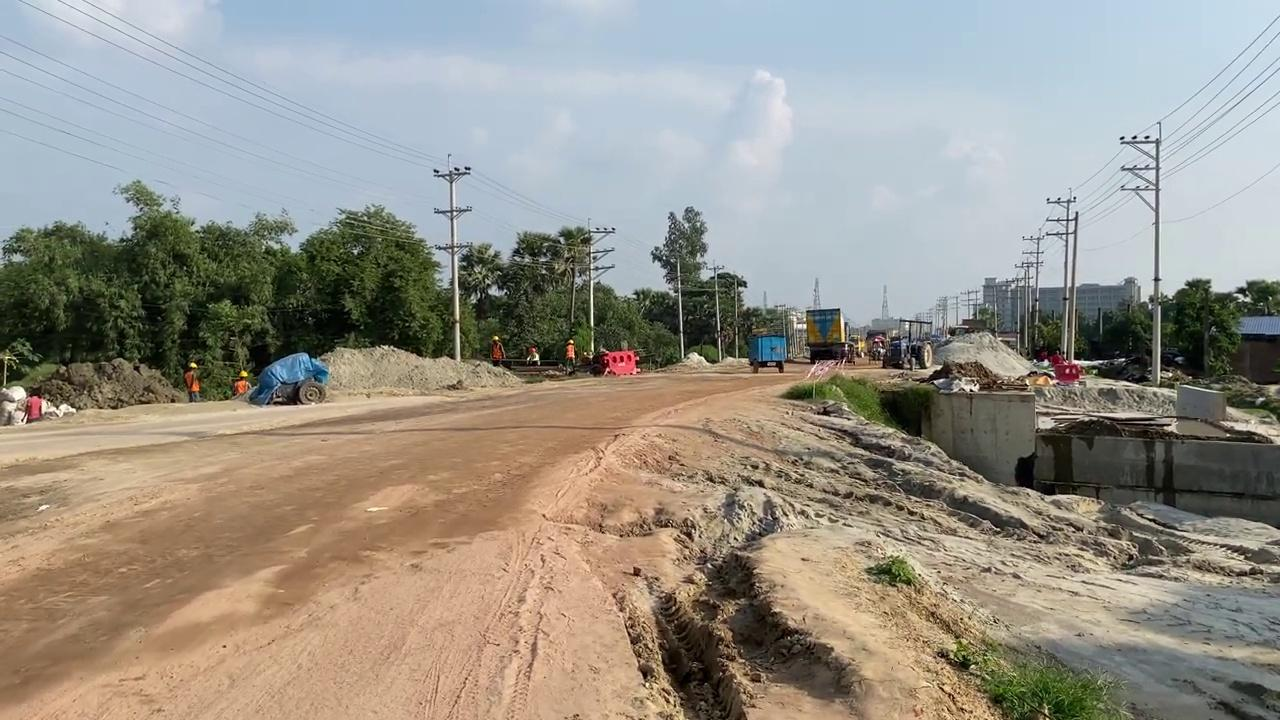Construction-barrier: (600, 349, 639, 375)
Garbage: (247, 351, 329, 405)
Muddy road: (2, 364, 1277, 718)
Obstacle: (1175, 382, 1227, 421)
Pole: (432, 153, 472, 361)
Tree: (785, 310, 860, 361), (865, 318, 932, 370), (881, 337, 931, 370), (746, 333, 786, 372), (866, 330, 888, 363)
Upstairs: (919, 382, 1278, 528)
